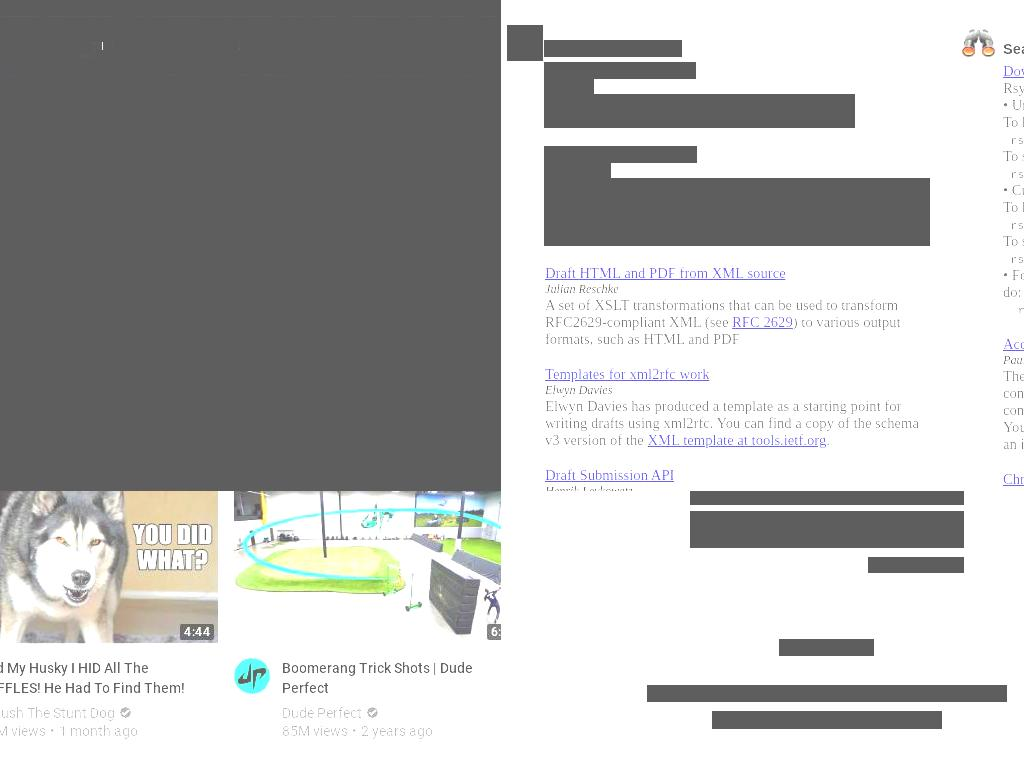button: (16, 76, 272, 491), (272, 76, 501, 491), (234, 491, 501, 644), (0, 491, 219, 644), (282, 657, 501, 698), (0, 657, 195, 698), (33, 100, 122, 150), (122, 100, 207, 150), (275, 100, 350, 150), (207, 100, 275, 150), (0, 703, 117, 722), (350, 101, 387, 150), (0, 100, 33, 150), (282, 703, 364, 722), (868, 557, 964, 573), (234, 657, 271, 694), (467, 109, 501, 142)
field: (690, 511, 964, 548), (690, 491, 964, 505)
heading: (46, 384, 226, 491), (302, 412, 460, 491), (282, 657, 501, 698), (0, 657, 195, 698)
image: (16, 76, 272, 491), (272, 76, 501, 491), (234, 491, 501, 644), (0, 491, 219, 644), (712, 711, 942, 729), (234, 657, 271, 694), (507, 25, 543, 61), (960, 25, 996, 61), (397, 117, 412, 133), (437, 117, 452, 133), (118, 706, 132, 720), (366, 706, 380, 720), (11, 123, 16, 133), (100, 123, 105, 133), (185, 123, 190, 133), (253, 123, 258, 133), (328, 123, 333, 133)
link: (544, 264, 786, 281), (647, 431, 826, 448), (544, 365, 710, 382), (544, 146, 697, 163), (544, 62, 696, 79), (544, 466, 674, 483), (113, 39, 238, 54), (779, 639, 874, 656), (0, 39, 92, 54), (732, 313, 794, 330), (558, 94, 592, 111)
text: (544, 178, 930, 246), (544, 397, 919, 448), (544, 313, 901, 347), (544, 296, 898, 330), (544, 94, 855, 128), (647, 685, 1007, 702), (478, 118, 501, 230), (544, 40, 682, 57), (58, 721, 138, 740), (282, 721, 362, 740), (361, 721, 434, 740), (544, 281, 619, 296), (0, 721, 59, 740), (544, 382, 613, 397), (544, 163, 611, 178), (43, 117, 98, 134), (132, 117, 183, 134), (544, 79, 594, 94), (544, 483, 633, 491), (285, 117, 326, 134), (217, 117, 251, 134), (184, 625, 211, 638), (1002, 352, 1024, 367), (360, 116, 377, 135), (544, 94, 558, 111), (0, 117, 9, 134), (490, 625, 501, 638), (826, 431, 831, 448)
